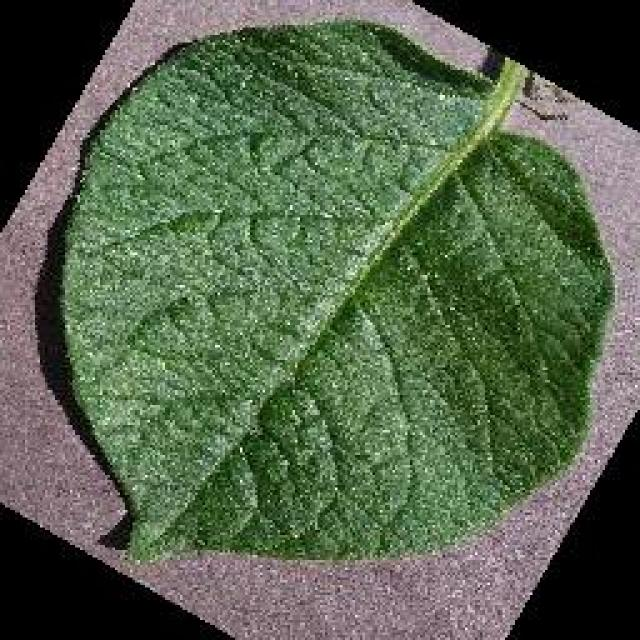Potato___healthy: (57, 19, 617, 567)
